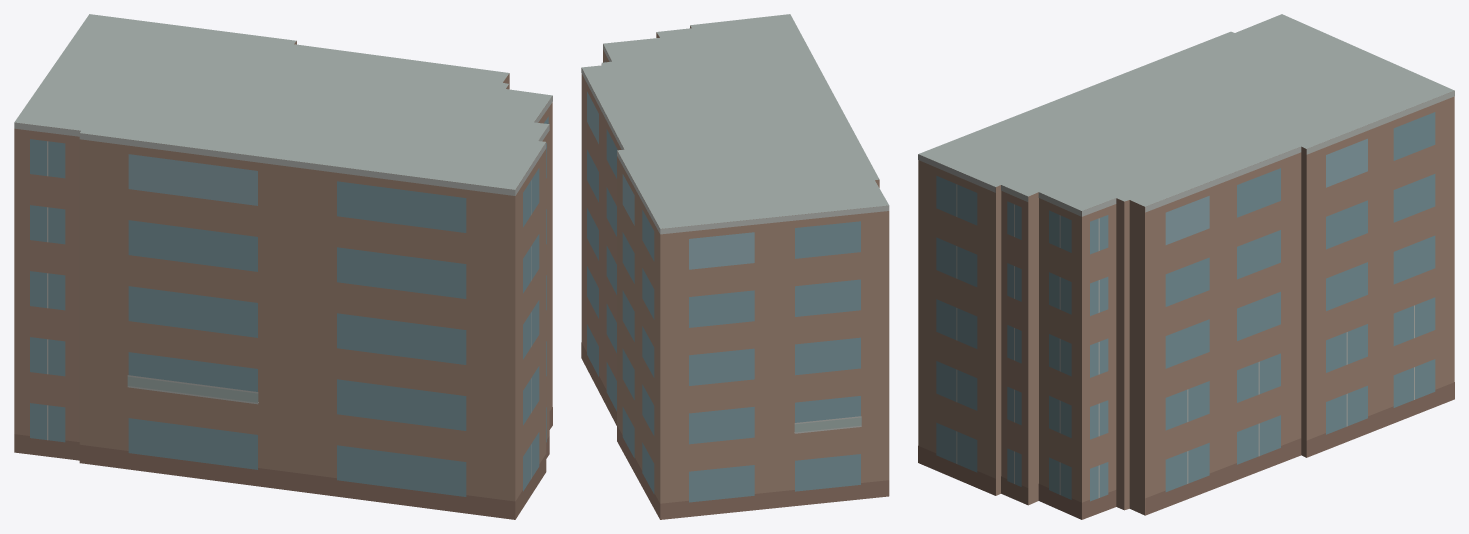
File: survey-upis-32713886.glb
3 views of the same model, side by side, from view 1: azimuth 30°, elevation 25°; view 2: azimuth 150°, elevation 25°; view 3: azimuth 270°, elevation 25° (orthographic). The views are drawn at different scales.
Parts seen in each view (by area): view 1: survey-upis-32713886.tmp; view 2: survey-upis-32713886.tmp; view 3: survey-upis-32713886.tmp.
Part boxes in pixels (x1,y1,x2,y2): survey-upis-32713886.tmp: (14, 14, 552, 519); survey-upis-32713886.tmp: (581, 14, 889, 519); survey-upis-32713886.tmp: (918, 14, 1454, 519).
Size of the model in its own units: 17.8 by 13 by 20.48.
